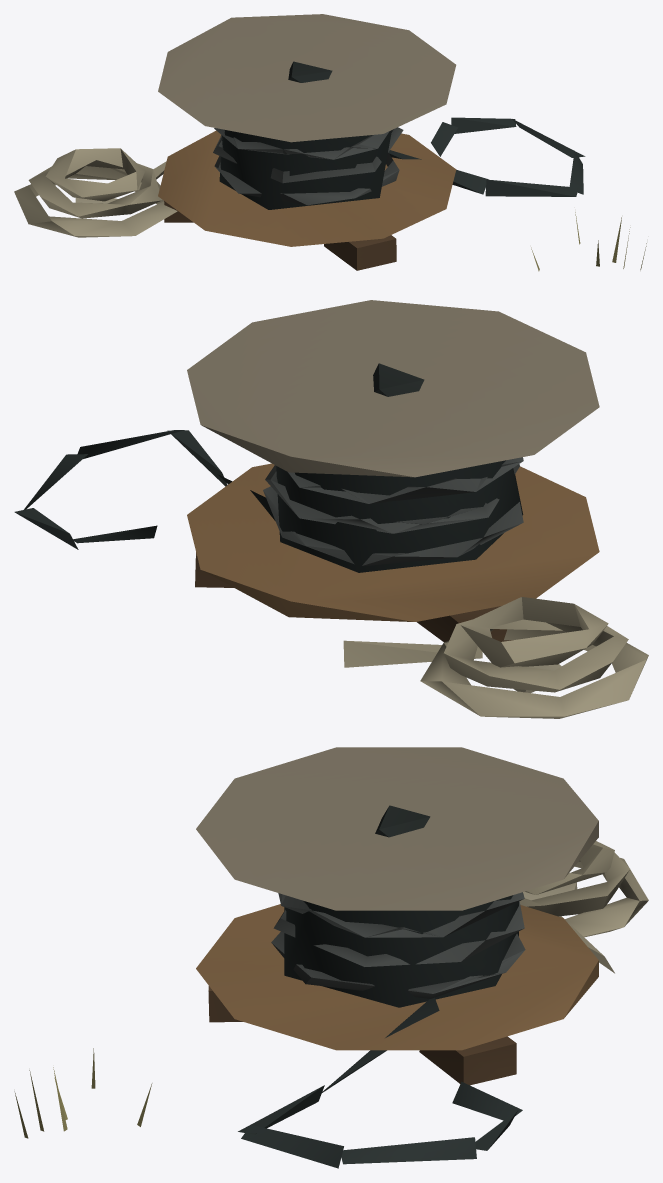
The model's file is cable_drum_b_lod2.glb.
3 renders of one model, top to bottom at view 1: azimuth 30°, elevation 25°; view 2: azimuth 150°, elevation 25°; view 3: azimuth 270°, elevation 25°, orthographic. The views are drawn at different scales.
Parts seen in each view (by area): view 1: Surface.001; view 2: Surface.001; view 3: Surface.001.
Part boxes in pixels (left/top/right/bottom): Surface.001: left=14, top=14, right=646, bottom=271; Surface.001: left=14, top=300, right=648, bottom=718; Surface.001: left=14, top=747, right=648, bottom=1168.
Size of the model in its own units: 5.78 by 1.68 by 4.95.
